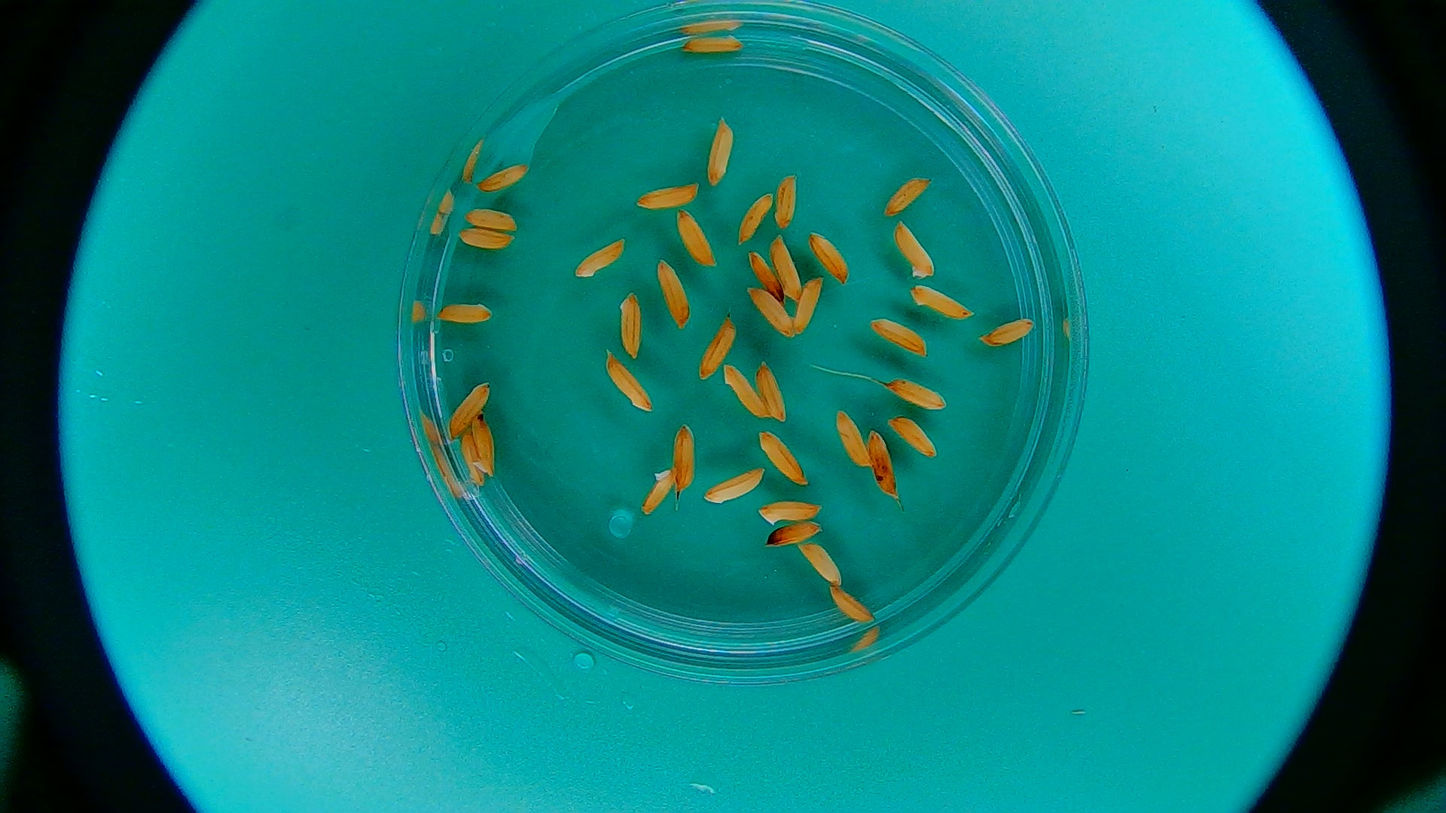no: (602, 356, 655, 414), (892, 220, 938, 283), (745, 286, 794, 343), (761, 429, 807, 488), (655, 256, 693, 327), (703, 114, 737, 187), (867, 428, 901, 499), (676, 209, 718, 266), (699, 316, 737, 379), (889, 412, 941, 458), (704, 467, 765, 506), (885, 379, 951, 413), (774, 233, 806, 303), (807, 227, 850, 279), (447, 379, 488, 433), (758, 357, 792, 422), (633, 179, 703, 210), (834, 409, 869, 471), (884, 175, 934, 218), (735, 190, 772, 247), (468, 412, 499, 480), (721, 363, 761, 415), (797, 539, 841, 586), (908, 285, 972, 317), (575, 241, 626, 279), (826, 585, 878, 622), (618, 288, 644, 361), (873, 318, 925, 354), (794, 280, 827, 334), (474, 162, 529, 193), (673, 423, 697, 494), (986, 315, 1039, 347), (642, 467, 676, 515), (756, 500, 820, 525), (772, 172, 799, 230), (746, 247, 779, 294), (435, 300, 495, 325), (462, 205, 521, 230), (764, 524, 834, 544), (681, 34, 746, 53), (459, 436, 480, 492), (457, 230, 515, 250)
